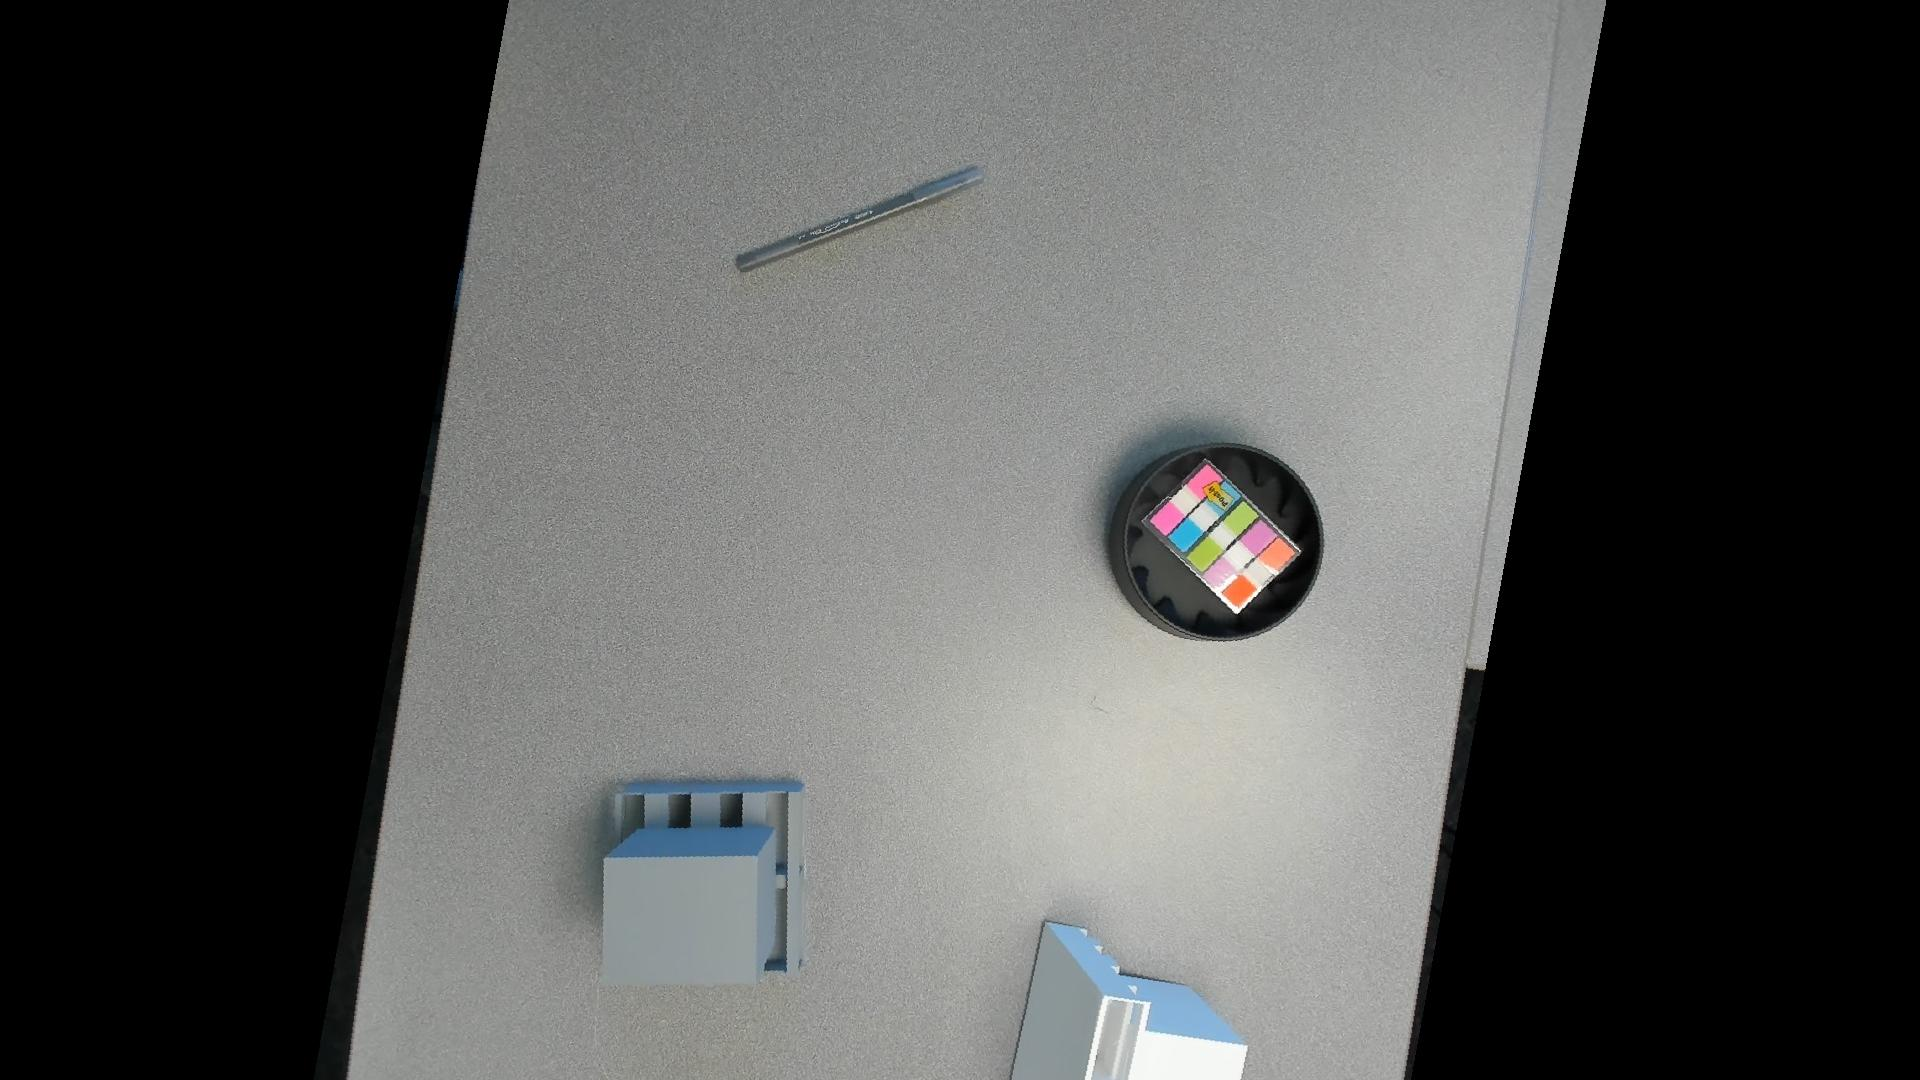grey pallet: (591, 750, 820, 1002)
white pallet: (1000, 909, 1254, 1080)
